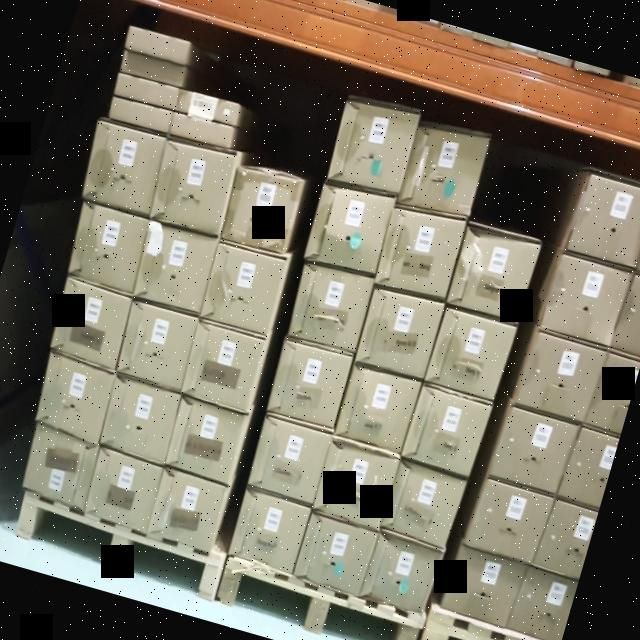box: (446, 224, 540, 322), (374, 202, 464, 302), (400, 117, 490, 216), (150, 140, 240, 234), (328, 98, 417, 192), (540, 254, 630, 344), (200, 239, 286, 333), (402, 385, 492, 474), (304, 185, 392, 274), (356, 288, 442, 378), (427, 309, 513, 399), (286, 264, 374, 351), (491, 404, 576, 494), (266, 340, 352, 428), (181, 320, 265, 410), (134, 222, 218, 312), (518, 330, 602, 420), (247, 416, 332, 504), (464, 478, 550, 564), (164, 396, 248, 484), (84, 120, 165, 211), (314, 439, 398, 526), (335, 364, 419, 450), (116, 302, 199, 388), (68, 203, 150, 289), (382, 461, 464, 546), (34, 354, 116, 438), (145, 469, 227, 552), (51, 280, 131, 364), (228, 491, 310, 572), (83, 448, 164, 530), (569, 175, 640, 268), (100, 379, 180, 460), (294, 514, 376, 593), (442, 546, 522, 626), (222, 170, 300, 251), (362, 534, 439, 610), (22, 430, 98, 506), (536, 496, 598, 580), (509, 567, 577, 640), (560, 426, 620, 507), (585, 350, 640, 431), (174, 86, 238, 125), (114, 72, 178, 110), (120, 49, 186, 85), (126, 27, 190, 62), (168, 113, 232, 148), (612, 274, 640, 352), (110, 95, 172, 130)
